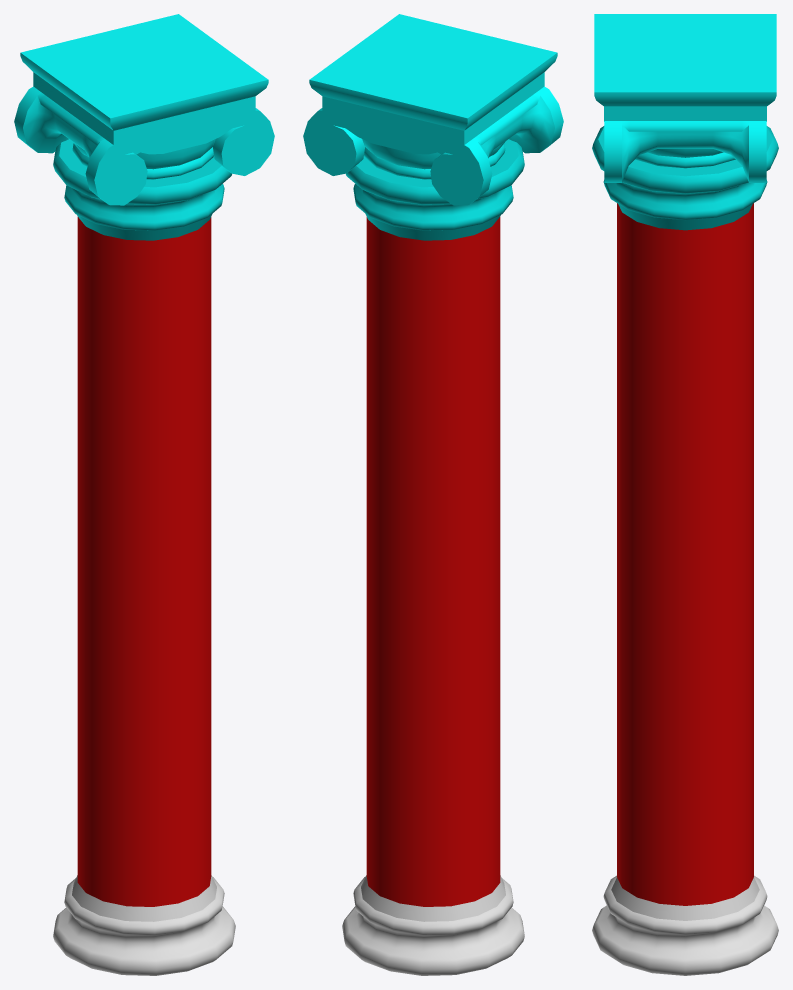
Rendered from SM_ColumnIonic4m.fbx.
3 renders of one model, left to right at view 1: azimuth 30°, elevation 25°; view 2: azimuth 150°, elevation 25°; view 3: azimuth 270°, elevation 25°, orthographic.
Parts seen in each view (by area): view 1: SM_ColumnIonic4m; view 2: SM_ColumnIonic4m; view 3: SM_ColumnIonic4m.
Part boxes in pixels (x1=…): SM_ColumnIonic4m: x1=14, y1=14, x2=274, y2=975; SM_ColumnIonic4m: x1=303, y1=14, x2=563, y2=975; SM_ColumnIonic4m: x1=592, y1=14, x2=778, y2=975.
Size of the model in its own units: 86.5 by 400 by 76.48.
